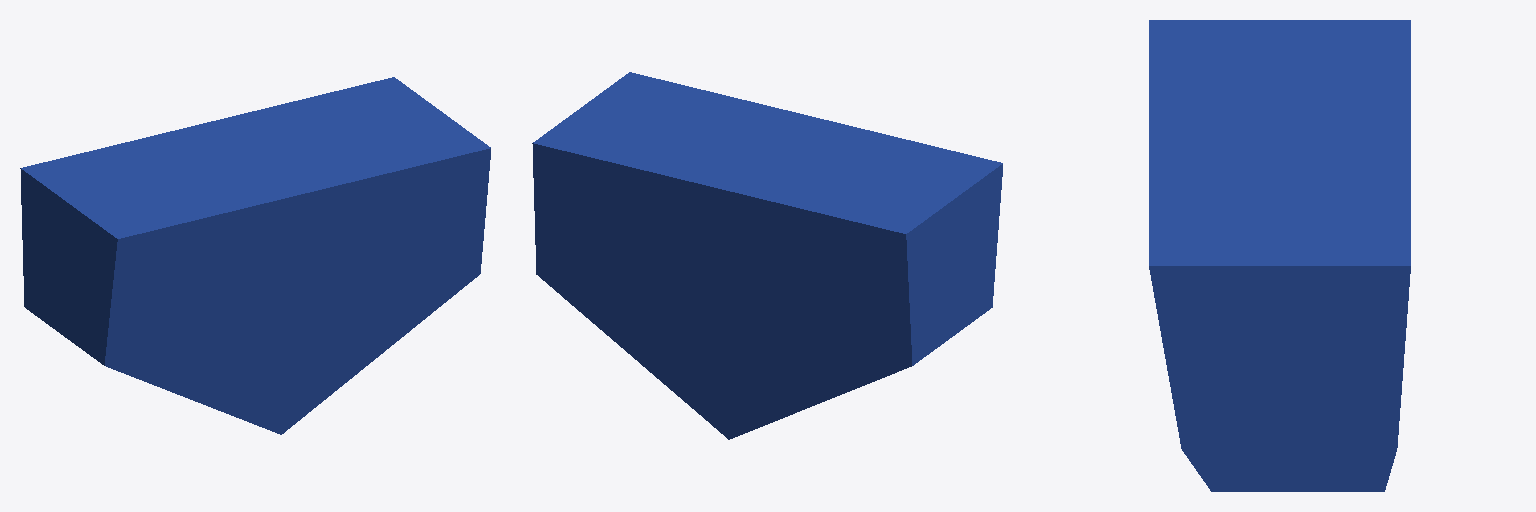
The robot description file, URDF, robot "human_dummy":
<?xml version="1.0" ?>
<!-- Generated using onshape-to-robot -->
<!-- Onshape document_id: 237f26396eb8ce58cc5779a2 -->
<robot name="human_dummy">
  <!-- Link lowertorso -->
  <link name="lowertorso">
    <inertial>
      <origin xyz="1.08998e-16 -0.00621349 -0.197996" rpy="0 0 0"/>
      <mass value="6.68019"/>
      <inertia ixx="0.0253036" ixy="0" ixz="0" iyy="0.0654795" iyz="0.000774034" izz="0.0578953"/>
    </inertial>
    <!-- Part lowertorso -->
    <visual>
      <origin xyz="1.11022e-15 0 0" rpy="0 -0 0"/>
      <geometry>
        <mesh filename="package://human_dummy/human/assets/lowertorso.stl"/>
      </geometry>
      <material name="lowertorso_material">
        <color rgba="0.231373 0.380392 0.705882 1"/>
      </material>
    </visual>
    <collision>
      <origin xyz="1.11022e-15 0 0" rpy="0 -0 0"/>
      <geometry>
        <mesh filename="package://human_dummy/human/assets/lowertorso.stl"/>
      </geometry>
    </collision>
  </link>
</robot>

--- Facts derived from the render (not from the file) ---
The picture shows the robot from 3 angles, left to right: view 1: azimuth 30°, elevation 25°; view 2: azimuth 150°, elevation 25°; view 3: azimuth 270°, elevation 25°; orthographic projection.
Model human_dummy with 1 links and 0 joints (none), rooted at lowertorso, posed every joint at zero.
Links seen in each view (by area): view 1: lowertorso; view 2: lowertorso; view 3: lowertorso.
Boxes of the visible links, left/top/right/bottom form: lowertorso: left=20, top=77, right=490, bottom=434; lowertorso: left=532, top=72, right=1002, bottom=439; lowertorso: left=1149, top=20, right=1410, bottom=491.
Size in the robot's own frame: 0.32 by 0.1433 by 0.21 metres.
Meshes: 1 distinct files referenced, 1 mesh visuals loaded (1 binary STL).